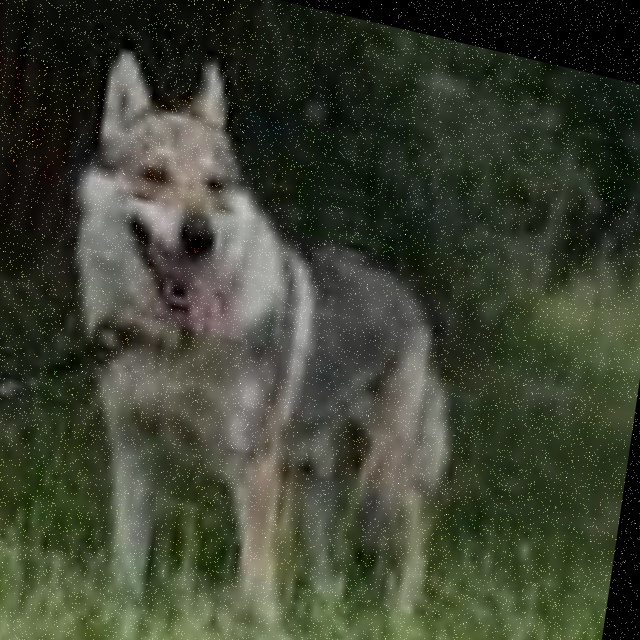dog: (1, 36, 529, 640)
